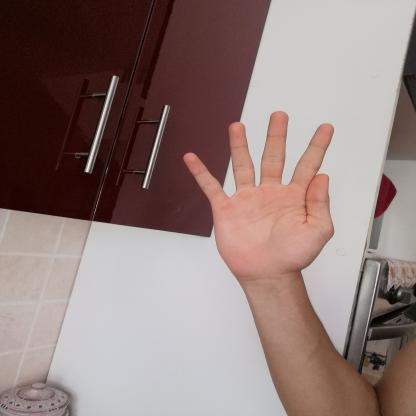SHEEN: (167, 104, 351, 285)
